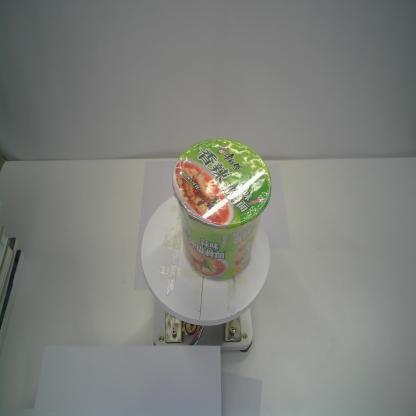Instant Noodles: (170, 136, 272, 282)
